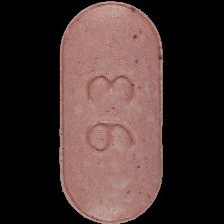42291-631: (0, 0, 224, 224)
